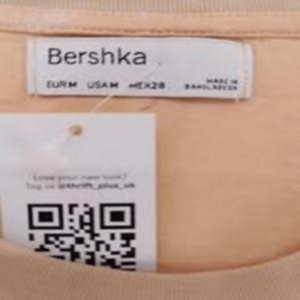bershka: (130, 20, 176, 60)
